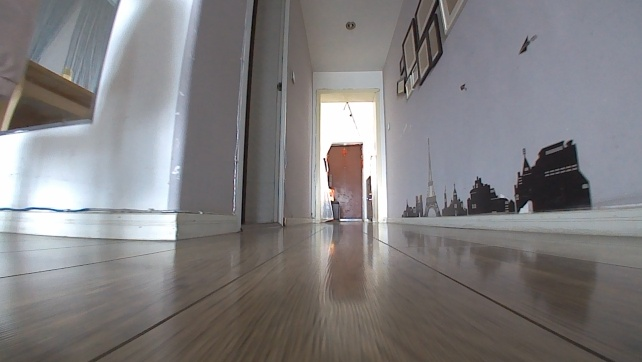door_anno: (325, 141, 364, 222)
wire: (0, 202, 203, 217)
